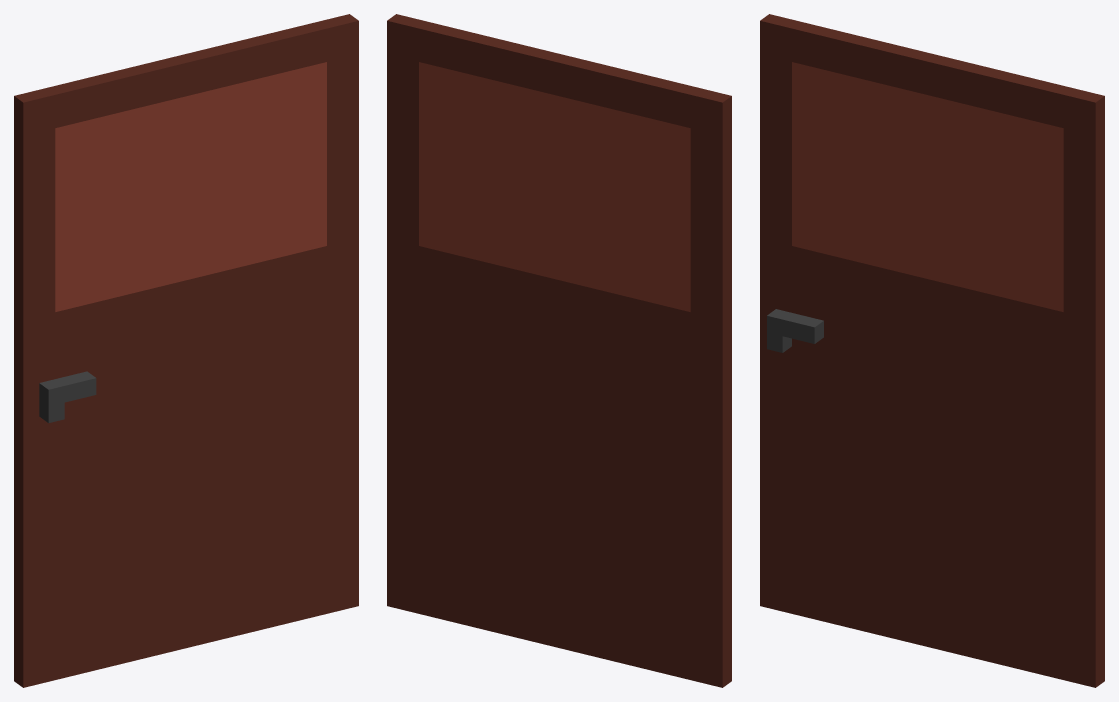
File: ConstructionMaterials-5.gltf
The picture shows the model from 3 angles, left to right: view 1: azimuth 30°, elevation 25°; view 2: azimuth 150°, elevation 25°; view 3: azimuth 330°, elevation 25°; orthographic projection.
Visible parts, largest first — view 1: Node; view 2: Node; view 3: Node.
Part boxes in pixels (x1=…): Node: x1=14, y1=14, x2=358, y2=687; Node: x1=387, y1=14, x2=731, y2=687; Node: x1=760, y1=14, x2=1104, y2=687.
Bounding box in the file's own units: 2.1 × 3.5 × 0.2.
Materials: 1 (1 with a texture image).
